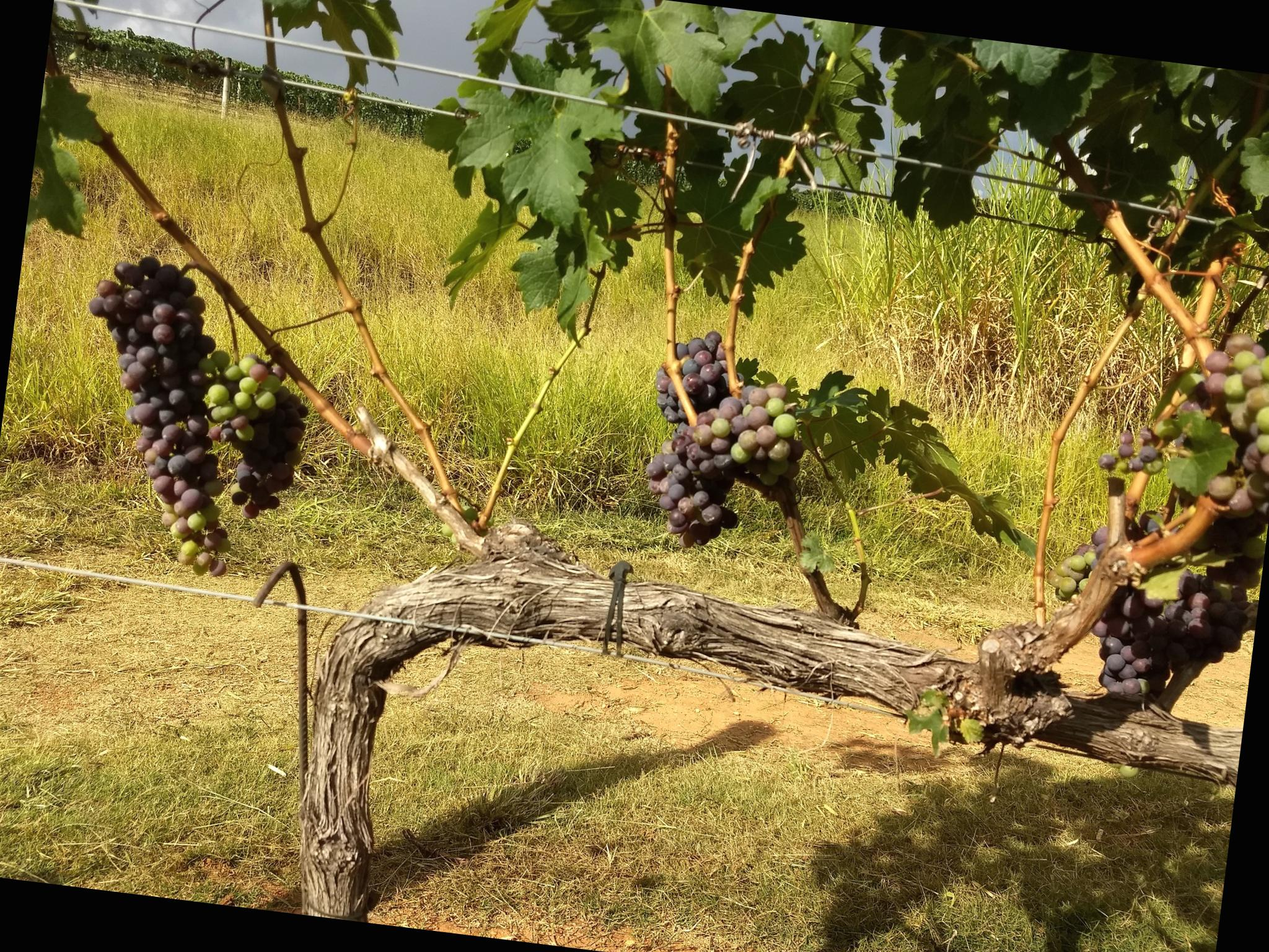Grape Ripe: (1088, 567, 1244, 712)
Grape Unripe: (688, 381, 800, 487), (1193, 326, 1269, 476)
